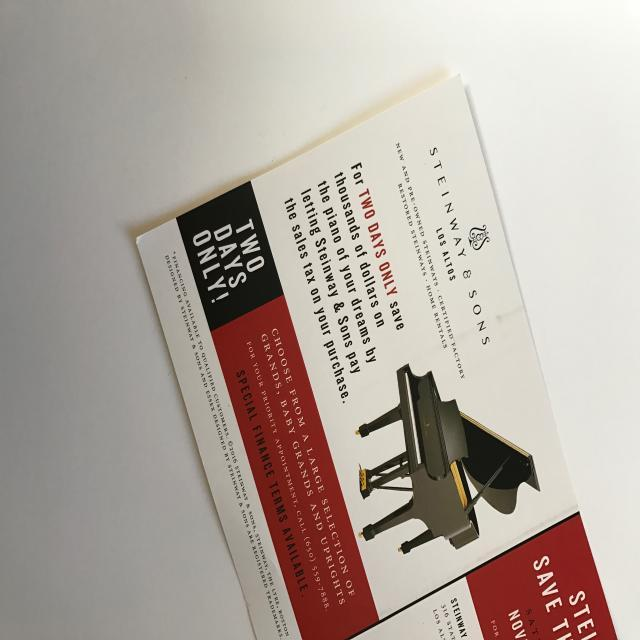paper: (135, 73, 620, 640)
